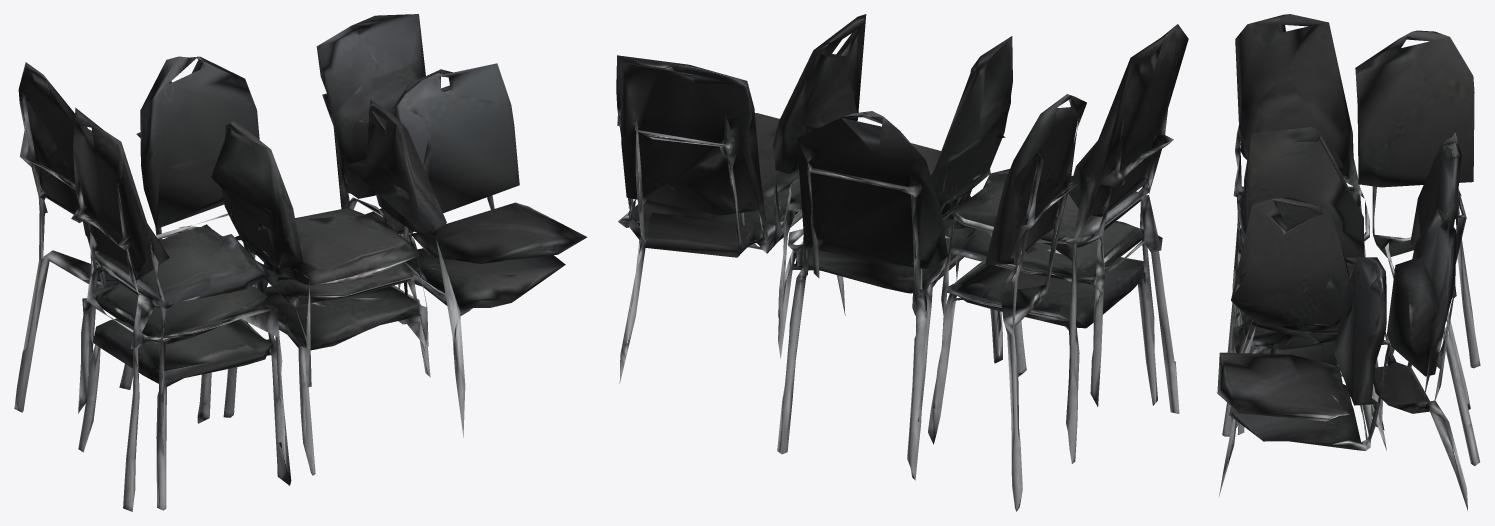
The model's file is innen_stuehle.glb.
3 views of the same model, side by side, from view 1: azimuth 30°, elevation 25°; view 2: azimuth 150°, elevation 25°; view 3: azimuth 270°, elevation 25° (orthographic). The views are drawn at different scales.
Visible parts, largest first — view 1: tripo_node_fbf77774-77e2-42db-b44b-0beea9a5dcbb; view 2: tripo_node_fbf77774-77e2-42db-b44b-0beea9a5dcbb; view 3: tripo_node_fbf77774-77e2-42db-b44b-0beea9a5dcbb.
Part boxes in pixels (x1=…): tripo_node_fbf77774-77e2-42db-b44b-0beea9a5dcbb: x1=14, y1=14, x2=587, y2=511; tripo_node_fbf77774-77e2-42db-b44b-0beea9a5dcbb: x1=616, y1=14, x2=1188, y2=511; tripo_node_fbf77774-77e2-42db-b44b-0beea9a5dcbb: x1=1217, y1=14, x2=1480, y2=510.
Size of the model in its own units: 0.9644 by 0.7458 by 0.5147.
1 material, 1 textured.
